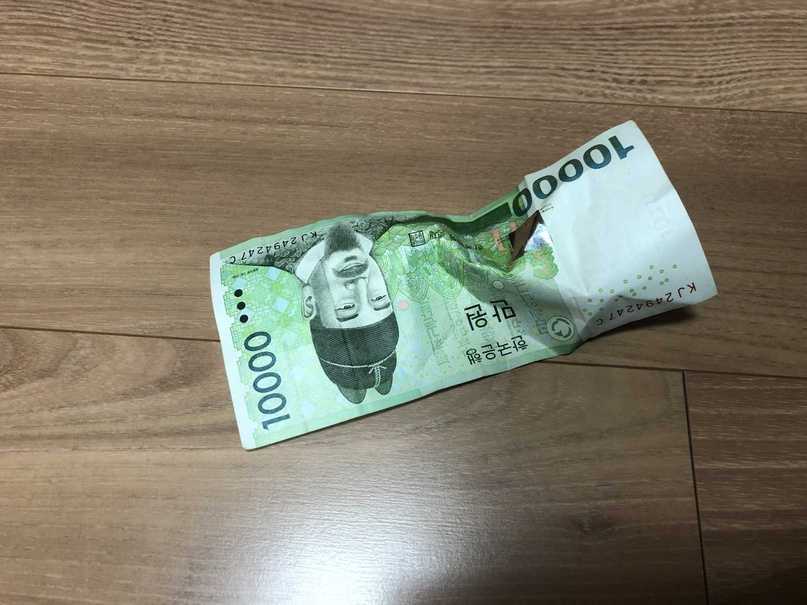10000won: (208, 120, 718, 451)
